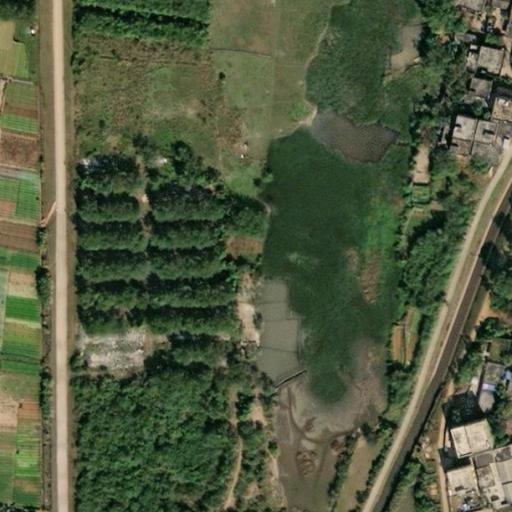building: (469, 363, 494, 410), (438, 453, 468, 484), (455, 407, 483, 438), (483, 86, 512, 112), (442, 412, 464, 445), (486, 330, 512, 357), (465, 112, 490, 139), (468, 38, 494, 63), (444, 103, 468, 129), (486, 457, 510, 482), (484, 119, 506, 146), (461, 142, 492, 161), (459, 69, 484, 92), (467, 459, 486, 487), (440, 131, 464, 150), (491, 479, 509, 504), (456, 41, 471, 69), (486, 441, 506, 458), (466, 445, 486, 461), (495, 22, 512, 38), (503, 476, 512, 496), (503, 439, 512, 455), (477, 65, 491, 75), (506, 48, 512, 70), (508, 453, 512, 476), (504, 368, 512, 375), (496, 372, 501, 381)
